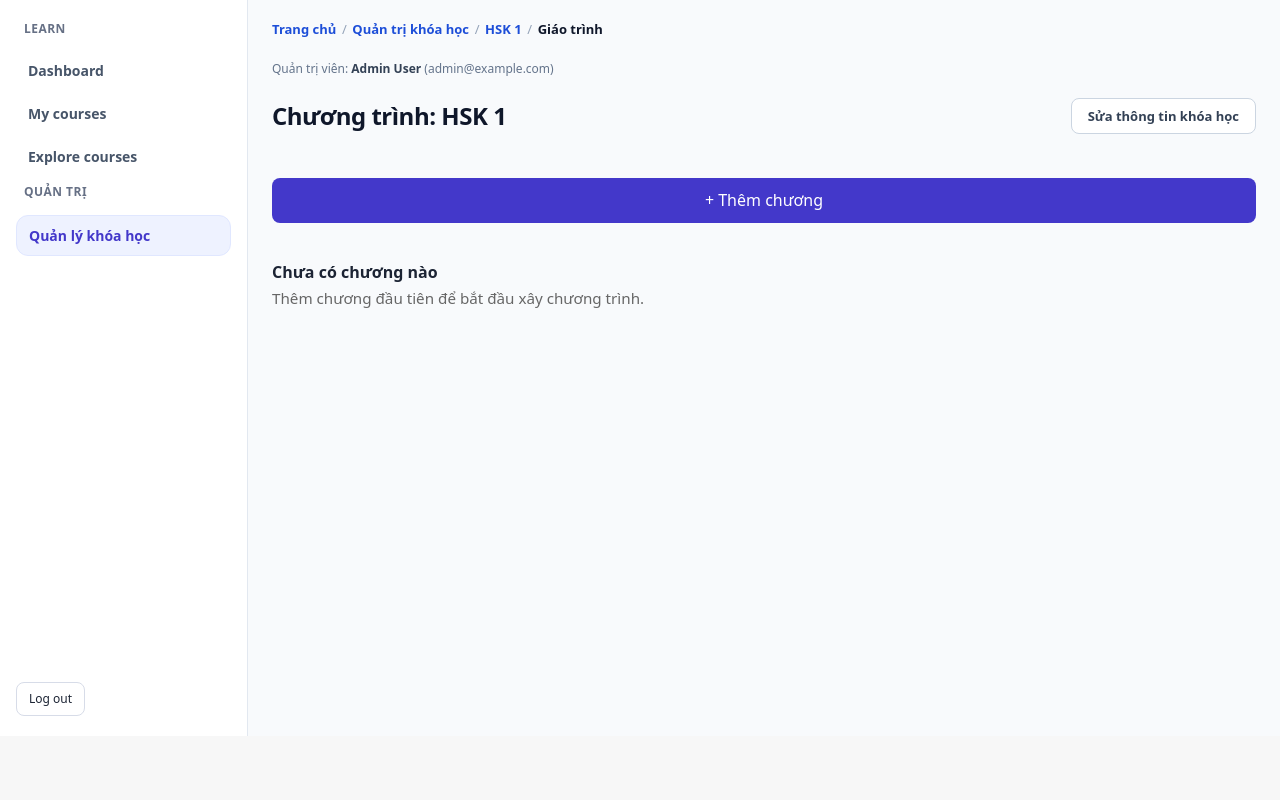
Test: AdminCurriculumPage › creates a section and refreshes the list
Expected: the text "Chưa có chương nào" is shown, [272,261,438,283]
Click the button "+ Thêm chương" at (764, 200), box [272,178,1256,223]
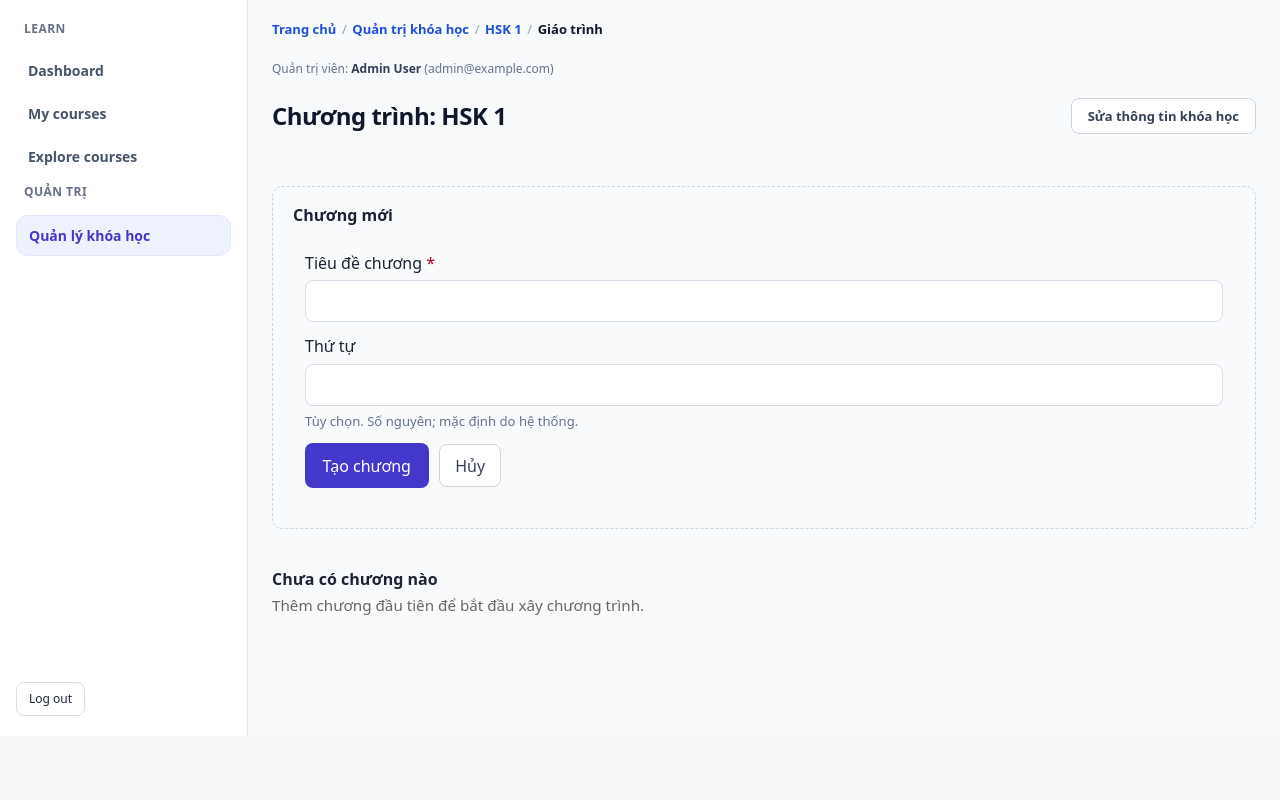
Type "Chương A" into the field labelled "Tiêu đề chương *" at (764, 301), box [305,280,1223,322]
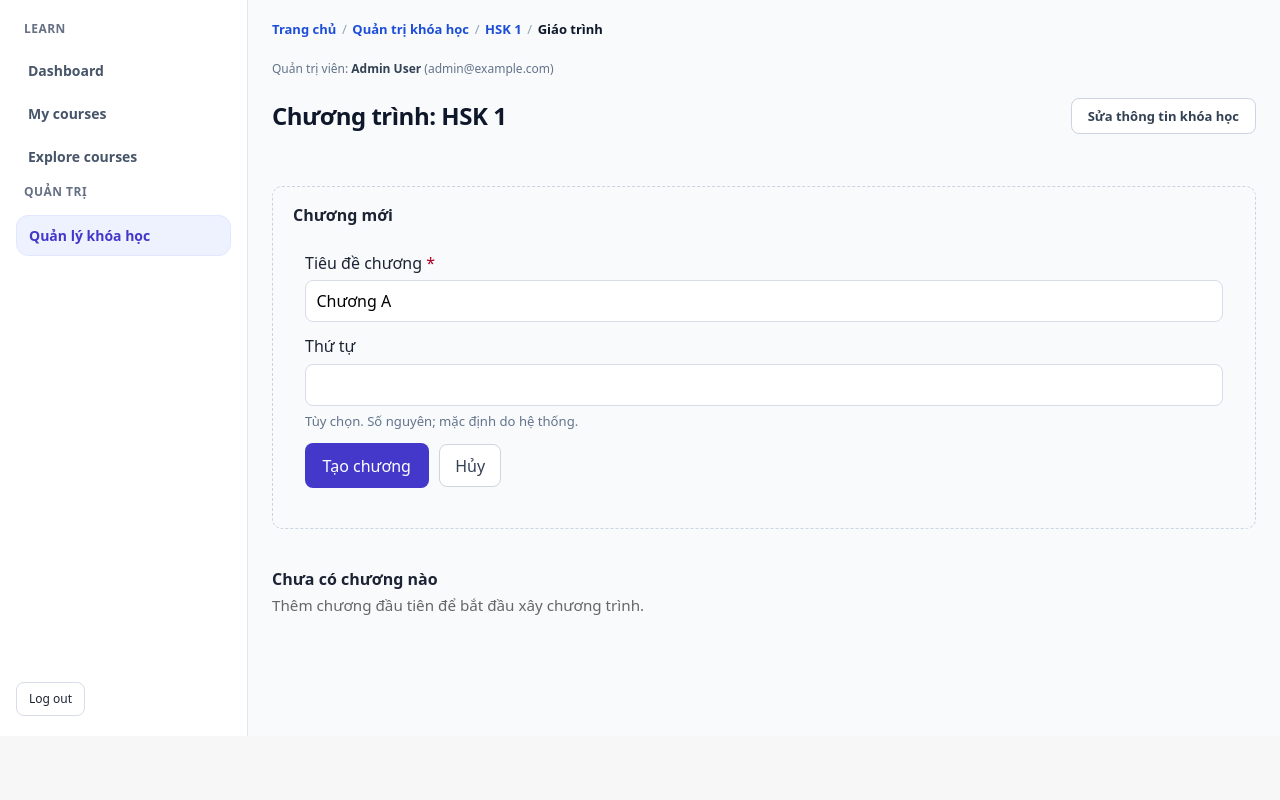
Click the button "Tạo chương" at (367, 466), box [305,443,429,488]
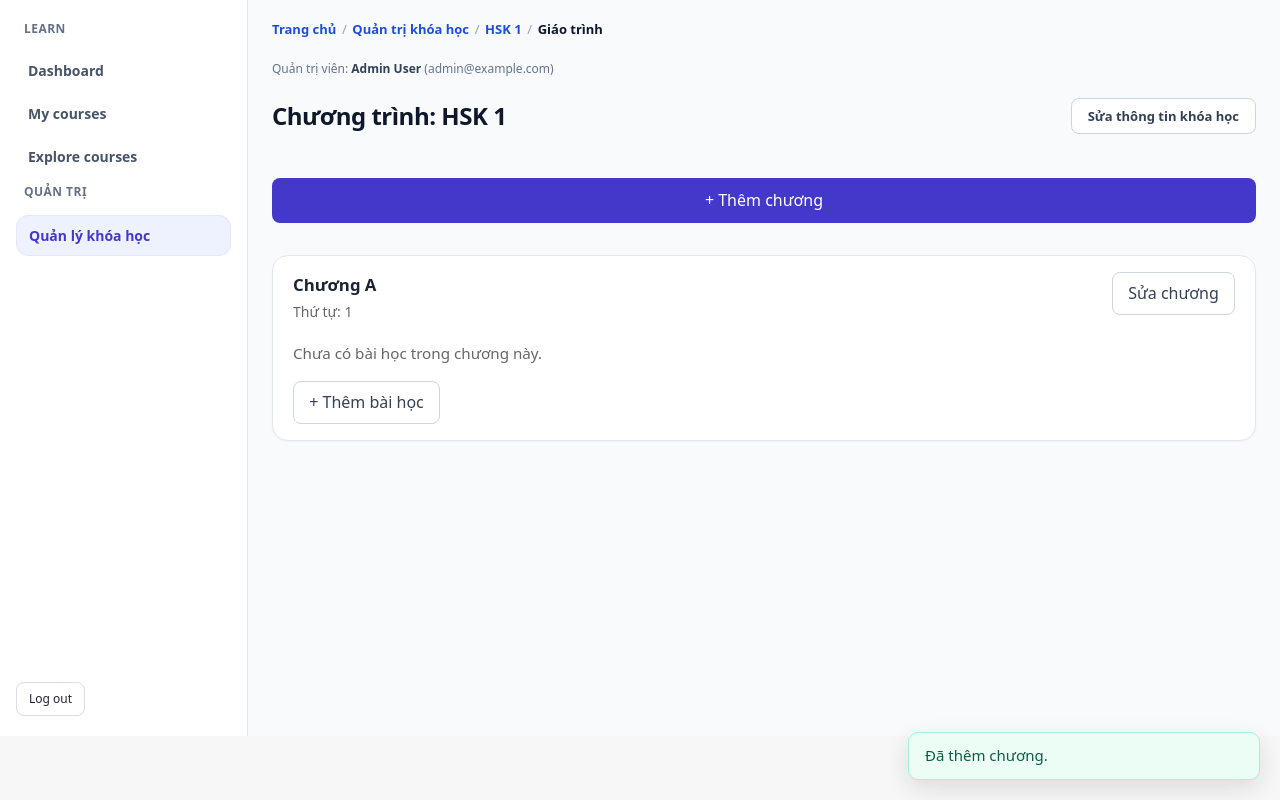
Expected: the heading "Chương A" is shown, [293,272,376,297]
